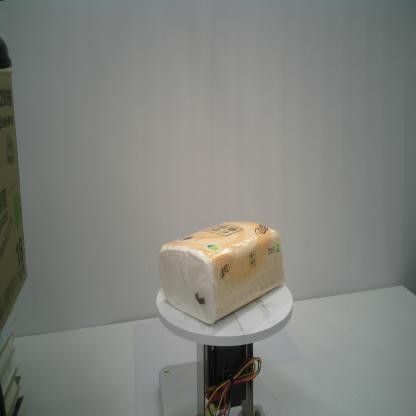Tissue: (157, 218, 286, 326)
